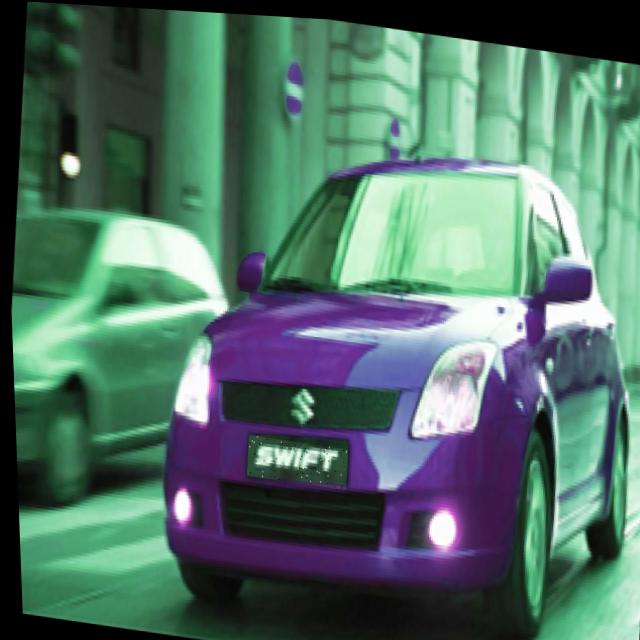license_plate: (242, 432, 345, 485)
